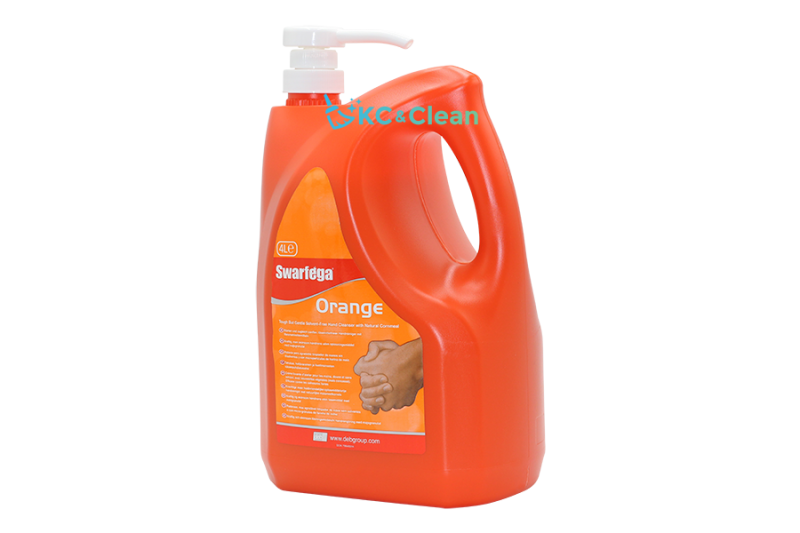Cleaning_solution: (255, 21, 551, 511)
